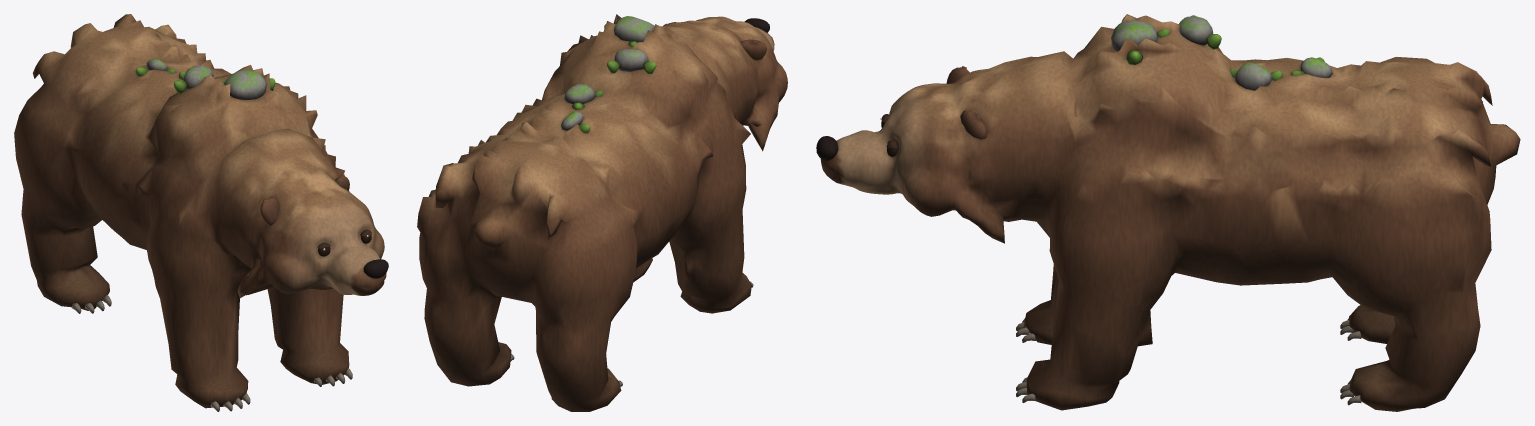
File: grizzly.fbx
3 views of the same model, side by side, from view 1: azimuth 30°, elevation 25°; view 2: azimuth 150°, elevation 25°; view 3: azimuth 270°, elevation 25° (orthographic). The views are drawn at different scales.
Visible parts, largest first — view 1: Grizzly_Body; view 2: Grizzly_Body; view 3: Grizzly_Body.
Boxes of the visible parts, x1,y1,x2,y2 form: Grizzly_Body: [14, 14, 388, 411]; Grizzly_Body: [417, 14, 787, 411]; Grizzly_Body: [816, 14, 1520, 411].
Size of the model in its own units: 1.96 by 2.89 by 5.2.
Materials: 2 (1 with a texture image).
